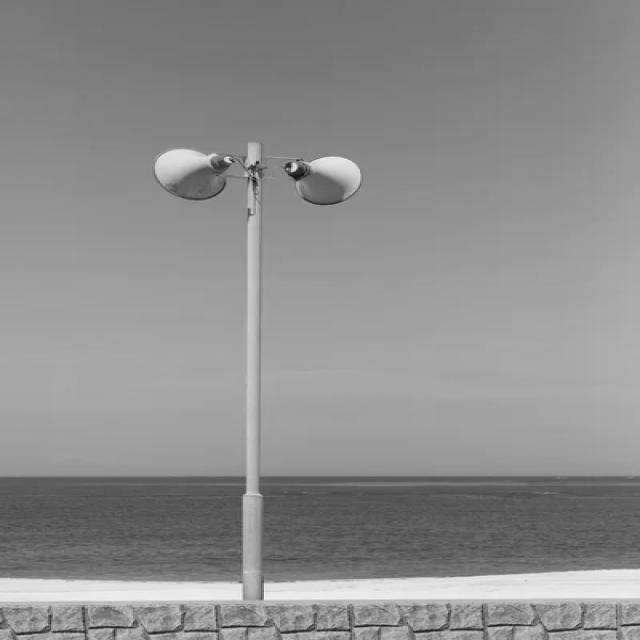Pole: (243, 142, 264, 601)
